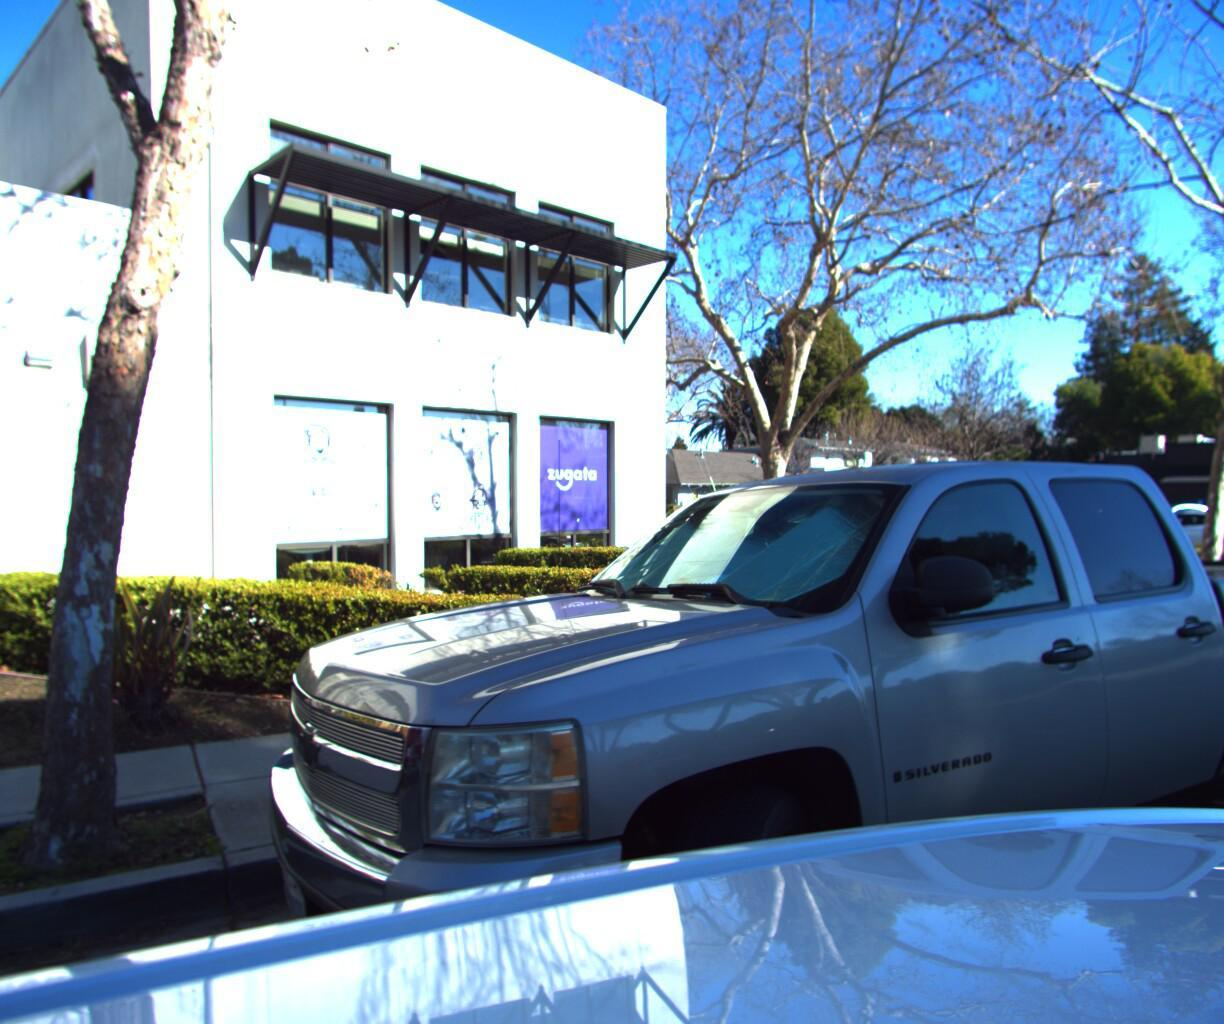car: (213, 391, 1224, 1024), (877, 481, 1173, 577), (1187, 494, 1224, 741), (1089, 499, 1224, 561), (1000, 495, 1148, 536), (1095, 493, 1224, 537), (719, 489, 836, 529), (1217, 491, 1224, 540)
